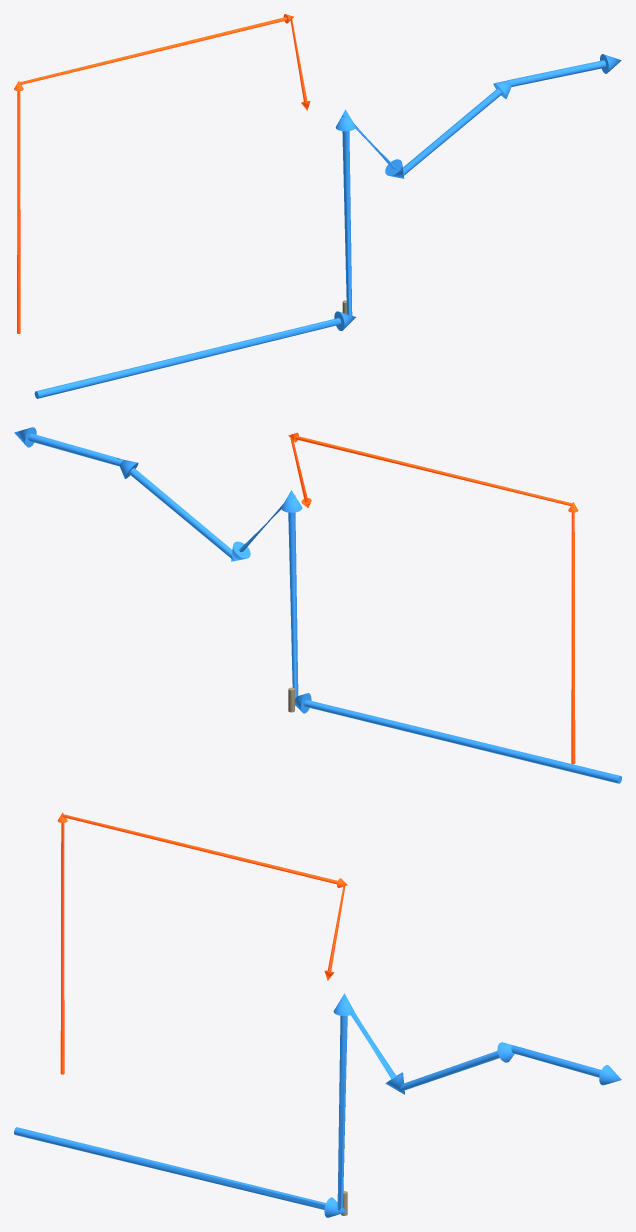
File: clariflocculator_flow.glb
The picture shows the model from 3 angles, top to bottom: view 1: azimuth 30°, elevation 25°; view 2: azimuth 150°, elevation 25°; view 3: azimuth 330°, elevation 25°; orthographic projection. The views are drawn at different scales.
Visible parts, largest first — view 1: raw_water, coagulant; view 2: raw_water, coagulant; view 3: raw_water, coagulant.
Boxes of the visible parts, bbox=[...] form: raw_water: bbox=[34, 54, 621, 398]; coagulant: bbox=[14, 14, 310, 333]; raw_water: bbox=[14, 427, 621, 783]; coagulant: bbox=[288, 432, 578, 764]; raw_water: bbox=[14, 993, 621, 1217]; coagulant: bbox=[57, 812, 347, 1074].
Bounding box in the file's own units: 4.3 × 2.1 × 0.4962.
